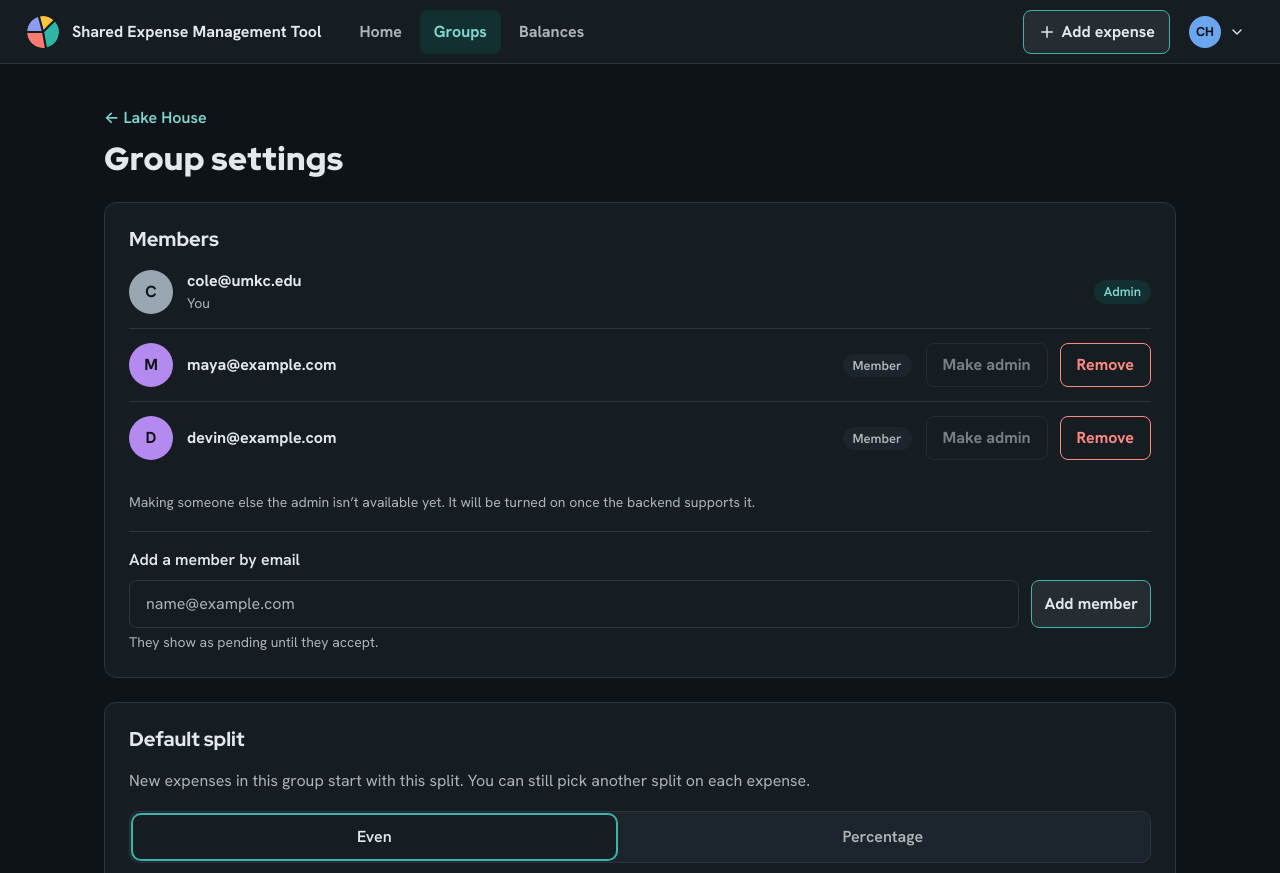
Test: Group settings: add a member › invites by email and shows the person as Pending
Expected: the heading "Group settings" is shown, left=104, top=137, right=343, bottom=180
Expected: the text "maya@example.com" is shown, left=187, top=354, right=336, bottom=375
Step 1. Type "Priya@Example.com" into the field labelled "Add a member by email" → point(574, 604), box left=129, top=580, right=1020, bottom=628
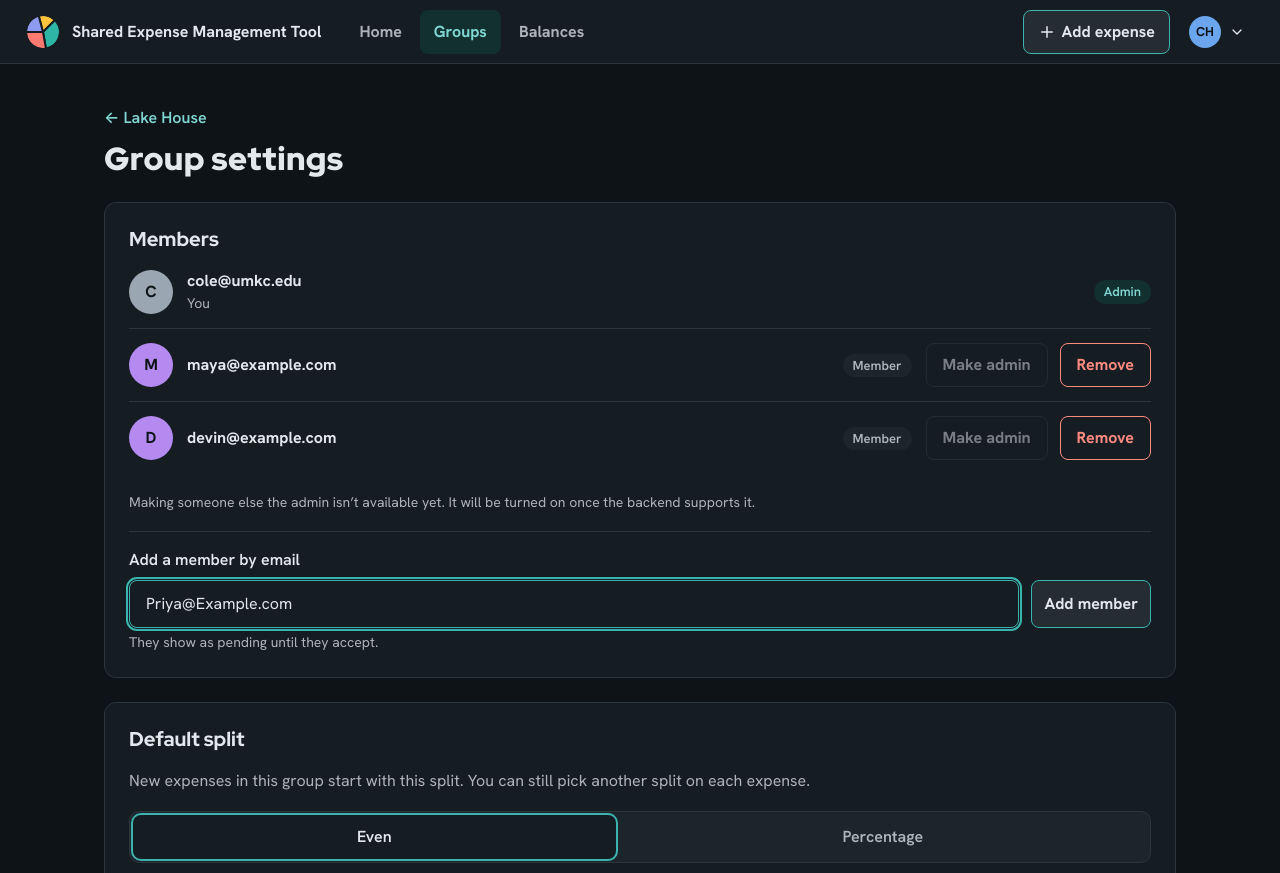
Step 2. Click the button "Add member" → point(1091, 604), box left=1032, top=580, right=1151, bottom=628
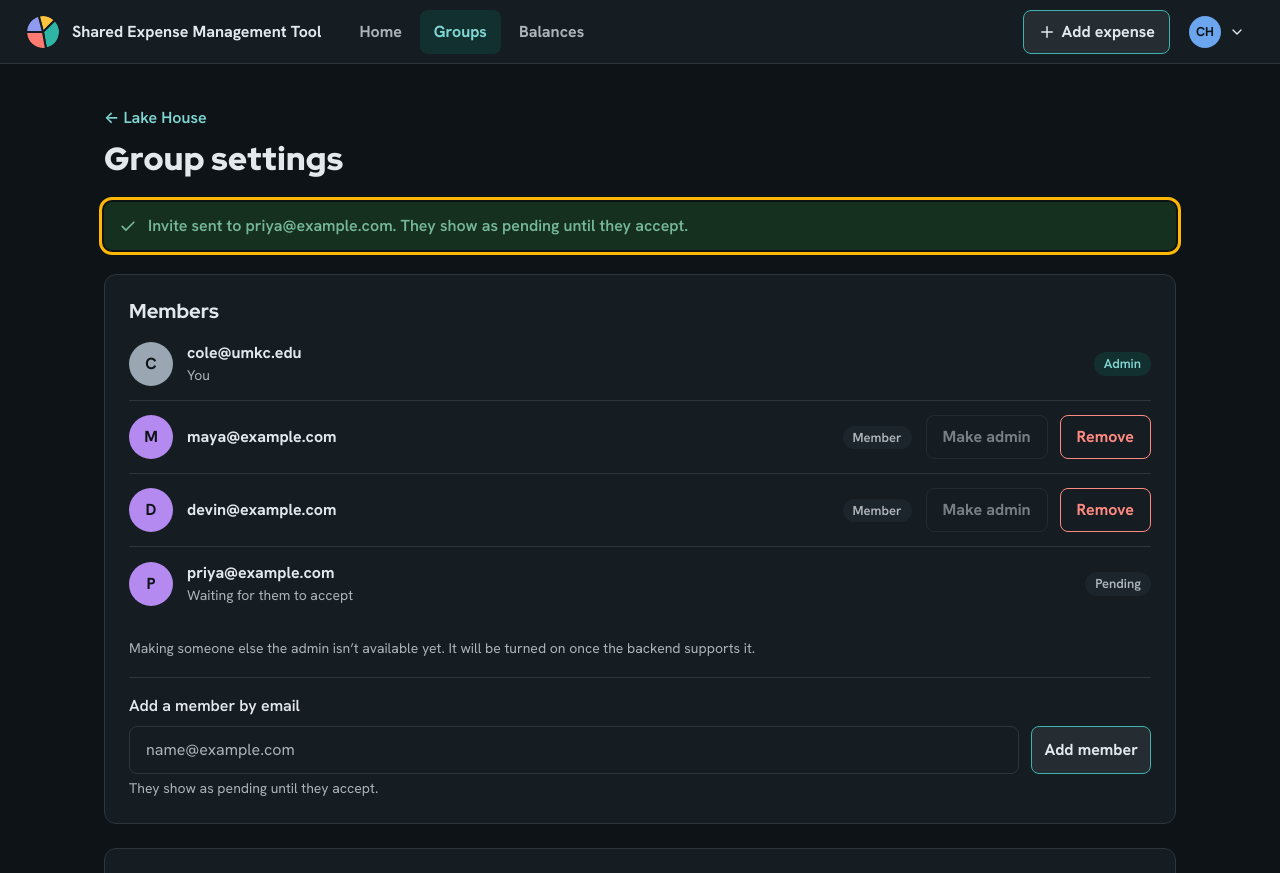
Expected: the text "Invite sent to priya@example.com. They show as pending until they accept." is shown, left=148, top=214, right=688, bottom=238
Expected: the text "priya@example.com" is shown, left=187, top=562, right=334, bottom=583
Expected: the text "Pending" is shown, left=1085, top=572, right=1151, bottom=596
